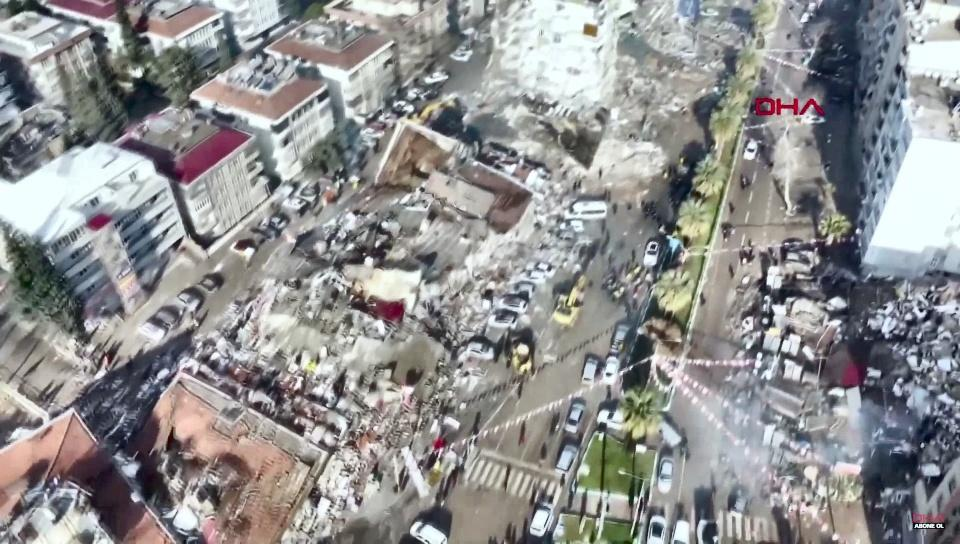kapali: (576, 0, 759, 220)
